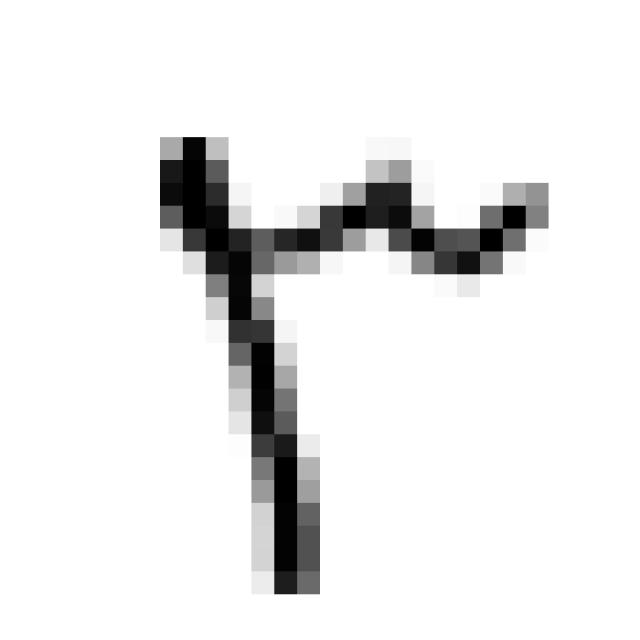3 -three-: (126, 110, 567, 615)
